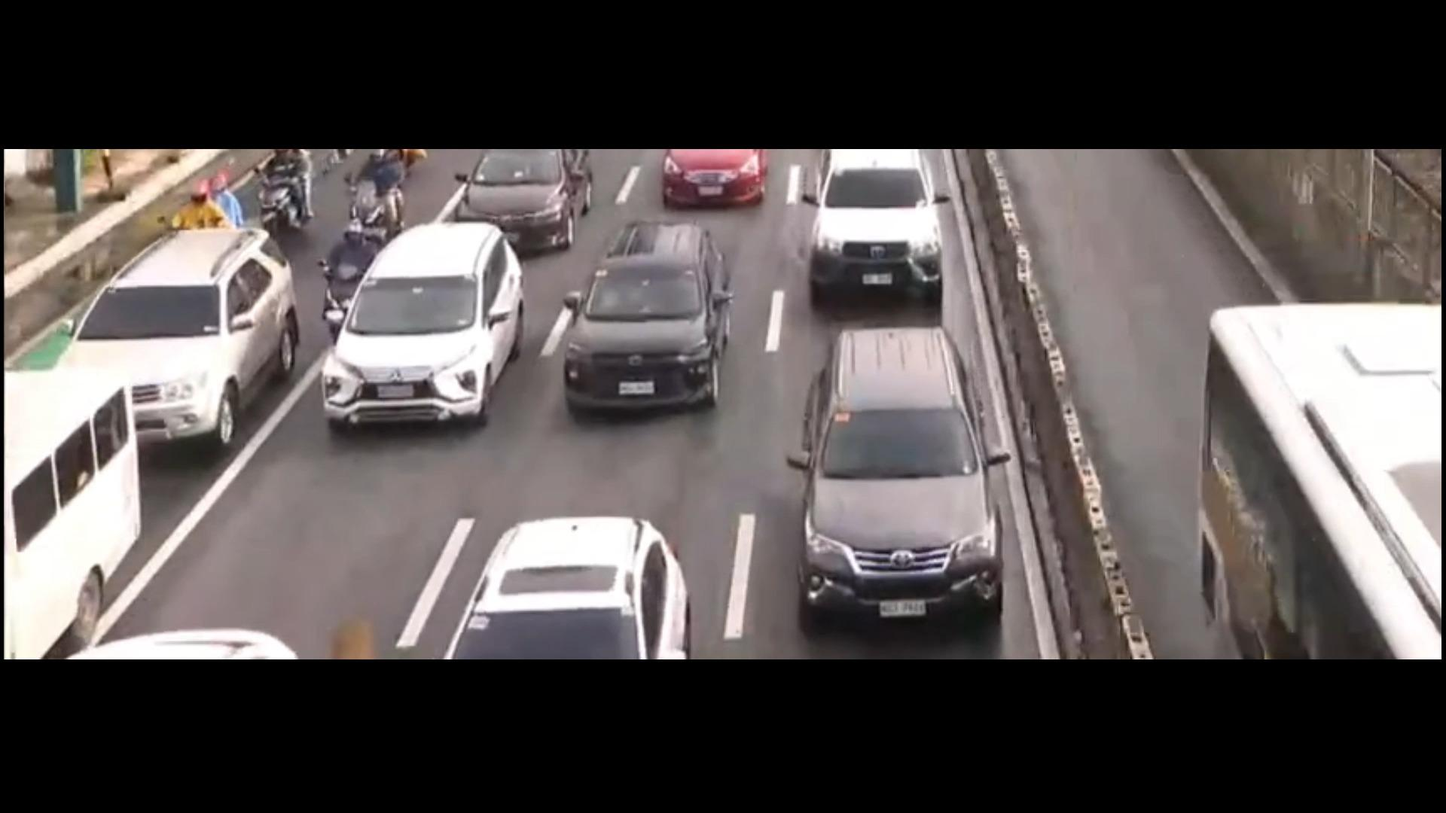Motorcycle: (308, 228, 390, 343), (337, 158, 416, 247), (253, 145, 313, 250)
Multicab: (0, 360, 151, 670)
SUV: (786, 322, 1015, 645), (75, 222, 311, 461), (525, 222, 761, 441), (304, 226, 539, 443), (426, 495, 705, 663), (796, 142, 955, 321), (436, 149, 592, 259)
